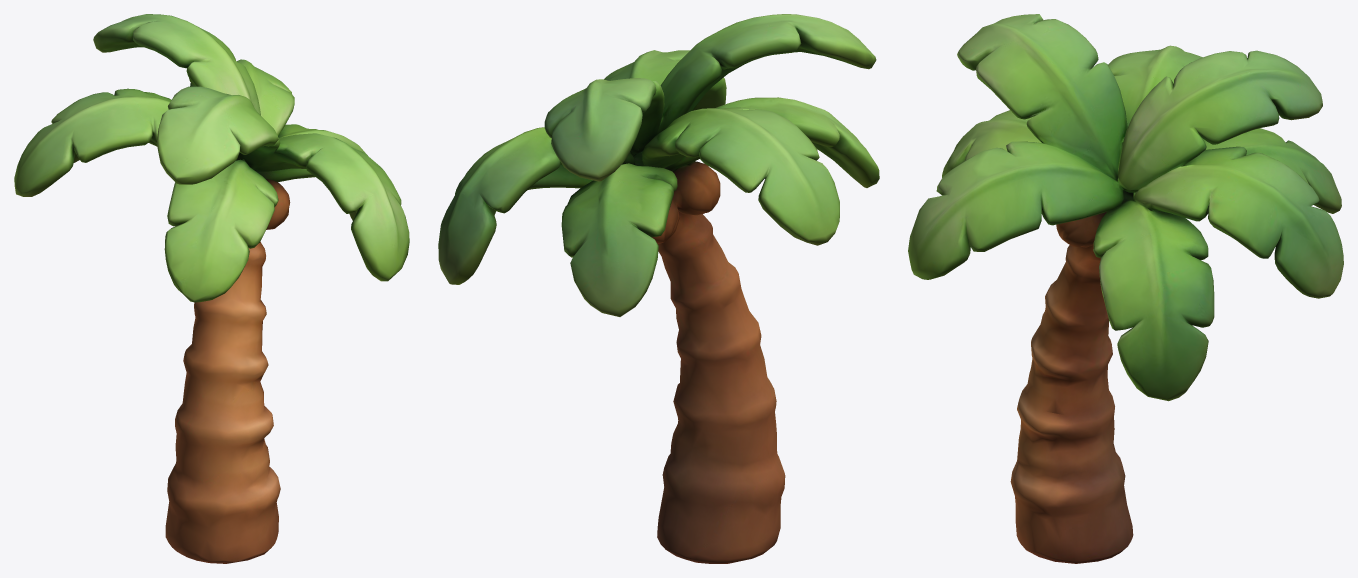
The model's file is palm_1k.glb.
3 renders of one model, left to right at view 1: azimuth 30°, elevation 25°; view 2: azimuth 150°, elevation 25°; view 3: azimuth 270°, elevation 25°, orthographic. The views are drawn at different scales.
Parts seen in each view (by area): view 1: tripo_node_2e10e8a2-3fec-4771-bced-0935fc4a648e; view 2: tripo_node_2e10e8a2-3fec-4771-bced-0935fc4a648e; view 3: tripo_node_2e10e8a2-3fec-4771-bced-0935fc4a648e.
Part boxes in pixels (left/top/right/bottom): tripo_node_2e10e8a2-3fec-4771-bced-0935fc4a648e: left=14, top=14, right=409, bottom=563; tripo_node_2e10e8a2-3fec-4771-bced-0935fc4a648e: left=438, top=14, right=879, bottom=563; tripo_node_2e10e8a2-3fec-4771-bced-0935fc4a648e: left=908, top=14, right=1343, bottom=563.
Size of the model in its own units: 0.7767 by 0.9807 by 0.7802.
1 material, 1 textured.
